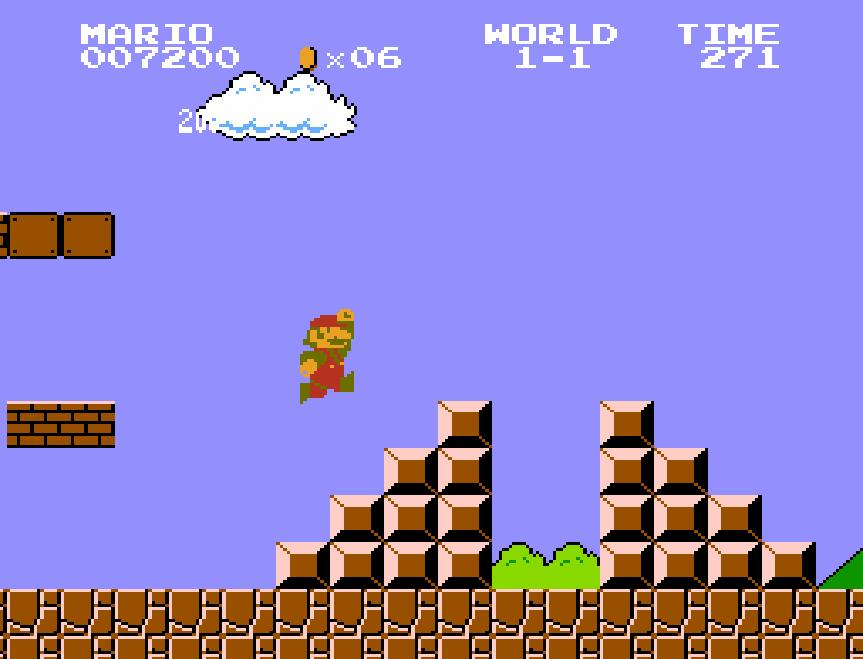big_mario: (298, 307, 356, 405)
